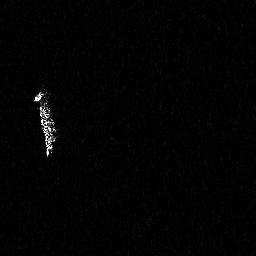ship: (32, 86, 59, 161)
